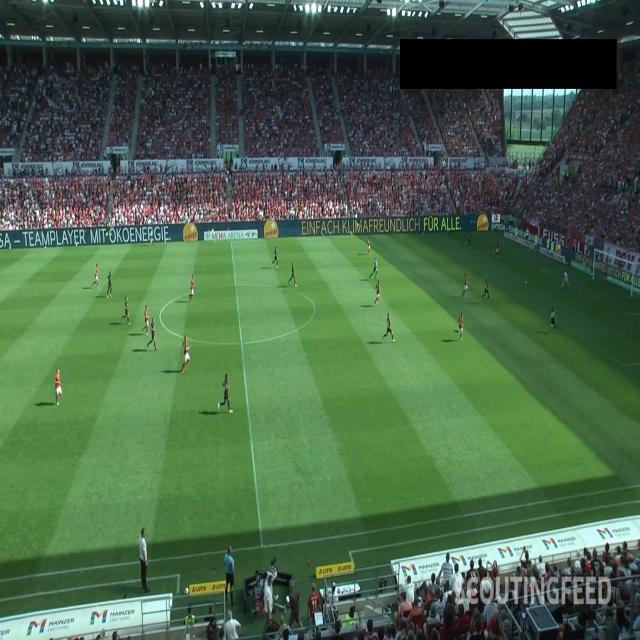ball: (525, 280, 528, 284)
